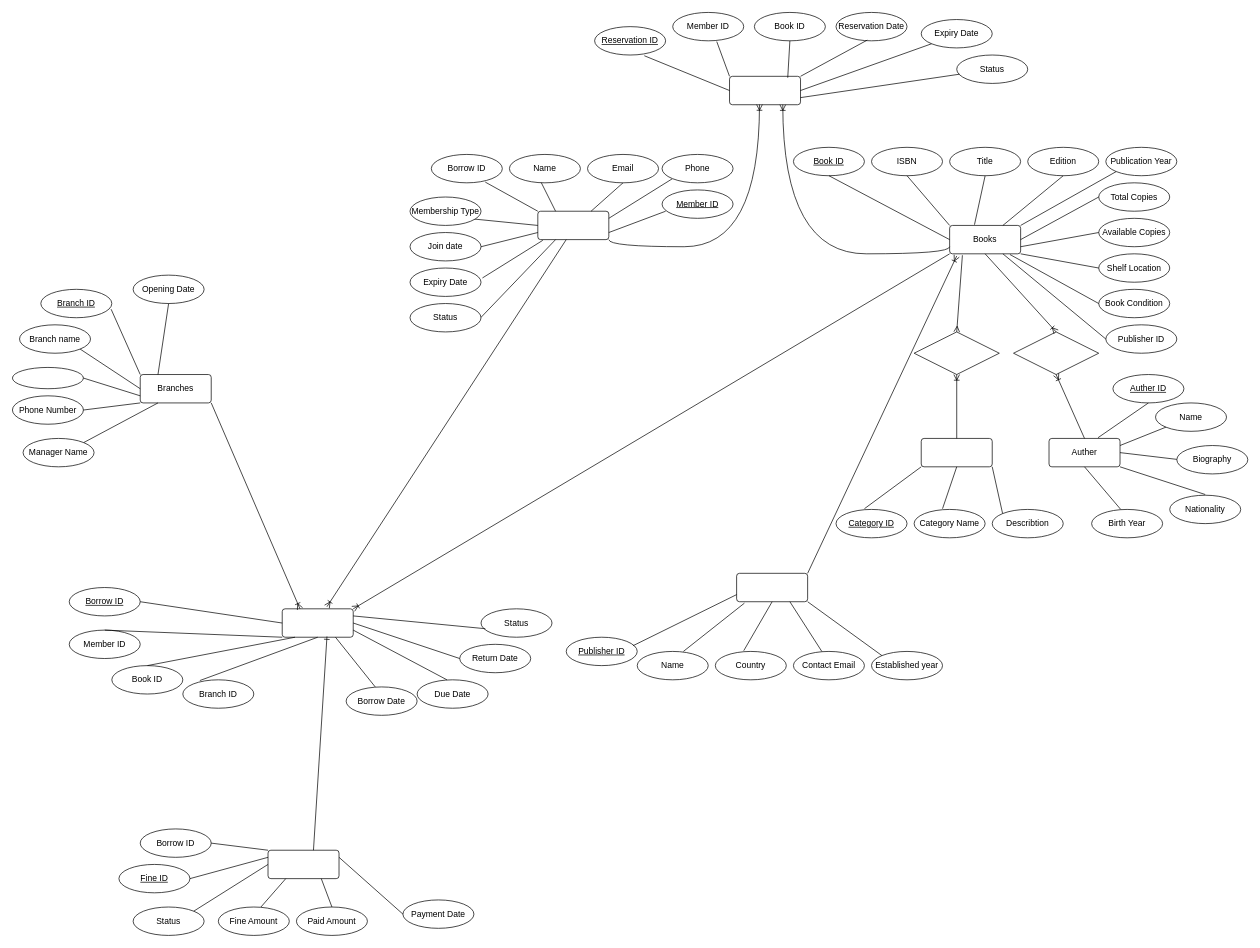
Some shapes in this 1260 by 948 pixel diagram are drawn without their labels. The centre of each missing label's shape, as x and y in pixels:
"Address" belongs at point 47,378.
"Belongs" belongs at point 956,353.
"Borrowing" belongs at point 317,622.
"Categories" belongs at point 956,452.
"Fines" belongs at point 303,864.
"have" belongs at point 1056,353.
"Members" belongs at point 573,225.
"Publishers" belongs at point 772,587.
"Reservations" belongs at point 765,90.
